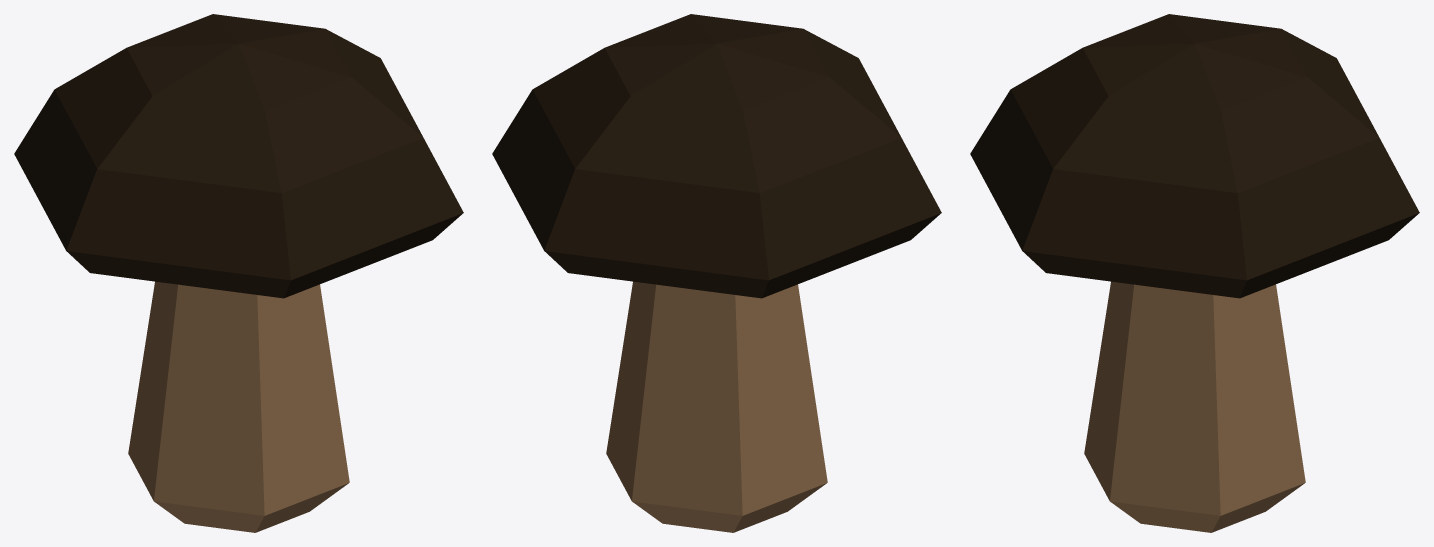
Rendered from mushroom1.FBX.
3 renders of one model, left to right at view 1: azimuth 30°, elevation 25°; view 2: azimuth 150°, elevation 25°; view 3: azimuth 270°, elevation 25°, orthographic.
Parts seen in each view (by area): view 1: mushroom1; view 2: mushroom1; view 3: mushroom1.
Boxes of the visible parts, x1,y1,x2,y2 form: mushroom1: [14, 14, 463, 532]; mushroom1: [492, 14, 941, 532]; mushroom1: [970, 14, 1419, 532].
Bounding box in the file's own units: 10.99 × 10.77 × 12.12.
